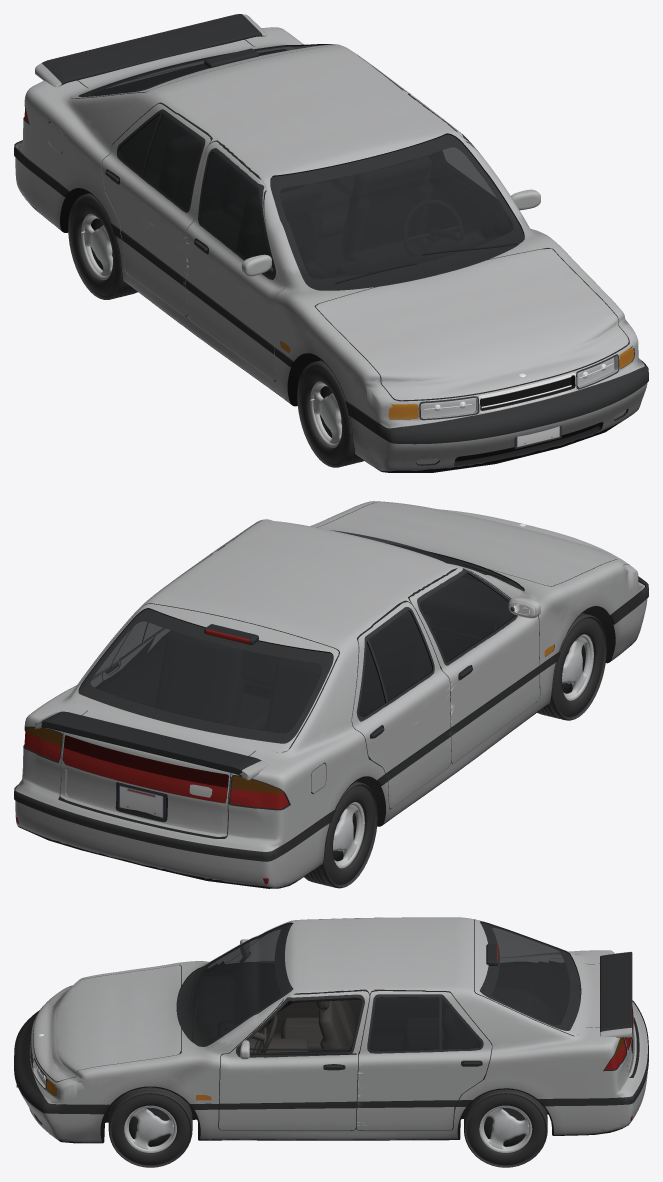
The model's file is car_hero_v21.glb.
The picture shows the model from 3 angles, top to bottom: view 1: azimuth 30°, elevation 25°; view 2: azimuth 150°, elevation 25°; view 3: azimuth 270°, elevation 25°; orthographic projection. The views are drawn at different scales.
Visible parts, largest first — view 1: body, wheel_FR, wheel_RR; view 2: body, wheel_FR, wheel_RR; view 3: body, wheel_FL, wheel_RL.
Part boxes in pixels (bbox=[...]): body: bbox=[14, 14, 648, 472]; wheel_FR: bbox=[297, 360, 363, 467]; wheel_RR: bbox=[68, 193, 137, 299]; body: bbox=[14, 501, 648, 888]; wheel_FR: bbox=[537, 613, 606, 720]; wheel_RR: bbox=[304, 781, 377, 888]; body: bbox=[14, 917, 648, 1143]; wheel_FL: bbox=[108, 1087, 192, 1167]; wheel_RL: bbox=[464, 1089, 547, 1167].
Size of the model in its own units: 1.99 by 1.42 by 4.78.
12 materials, 1 textured.
